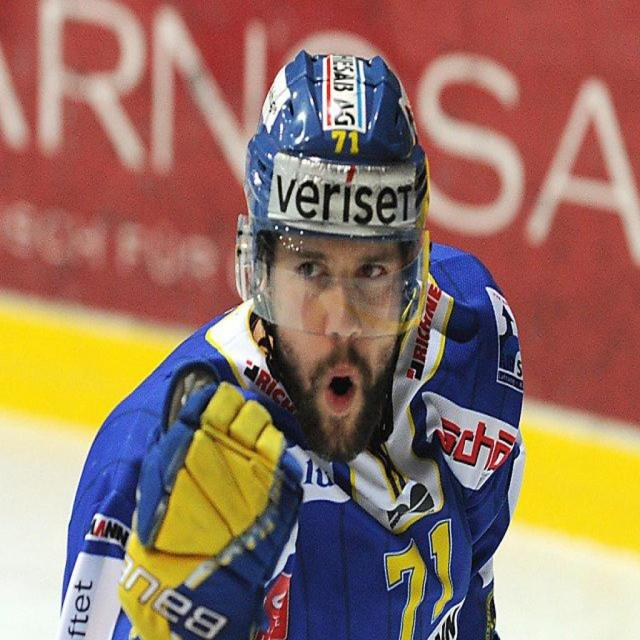Face: (247, 211, 420, 450)
